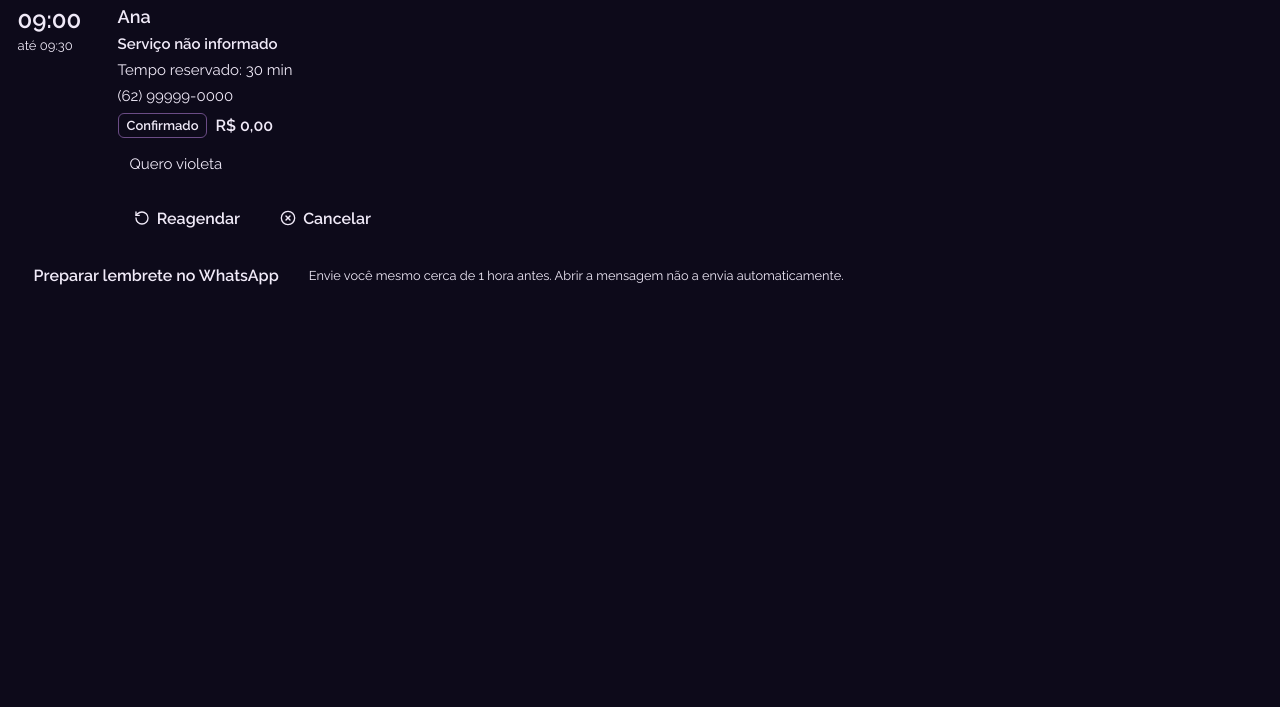
duration change discards old slots and shows the full conflicting appointment on save
Step 1. Click the button "Reagendar" → (187, 218), box [118,196,256,240]
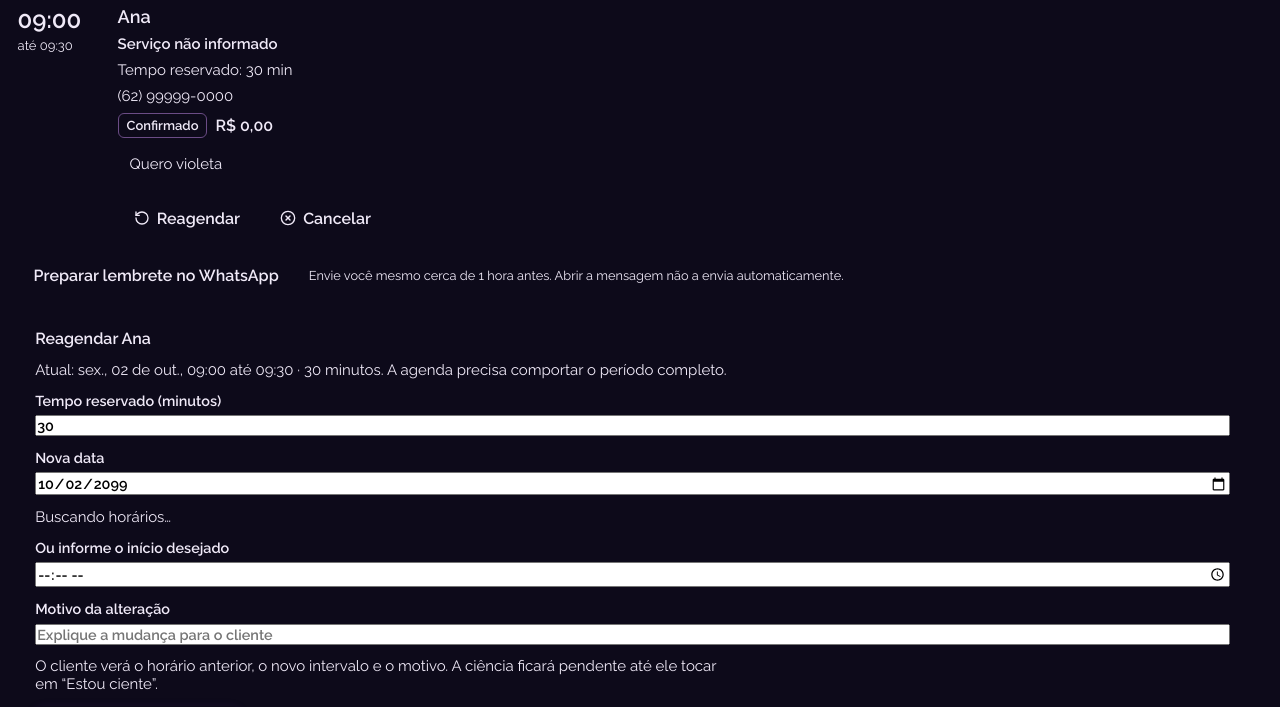
Step 2. Replace the text in the number field labelled "Tempo reservado (minutos)" with "180" → (632, 426), box [35,415,1230,436]
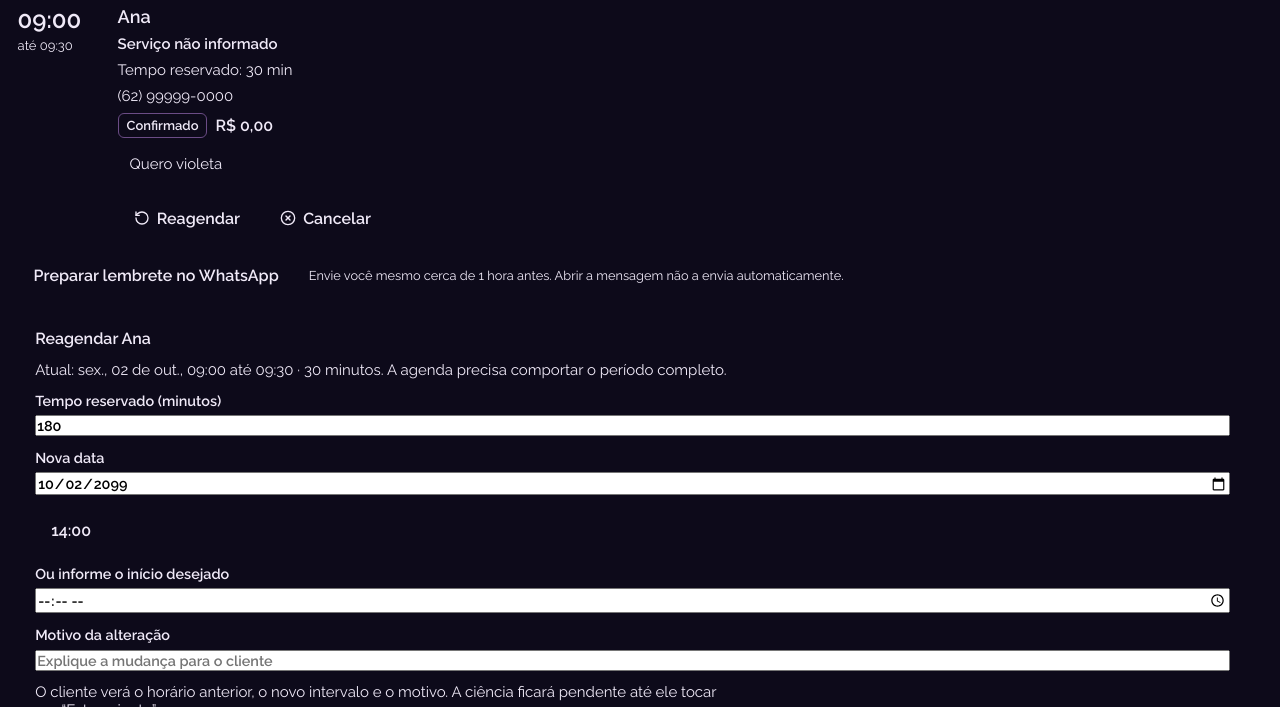
Step 3. Click the button "14:00" → (71, 530), box [35,508,107,552]
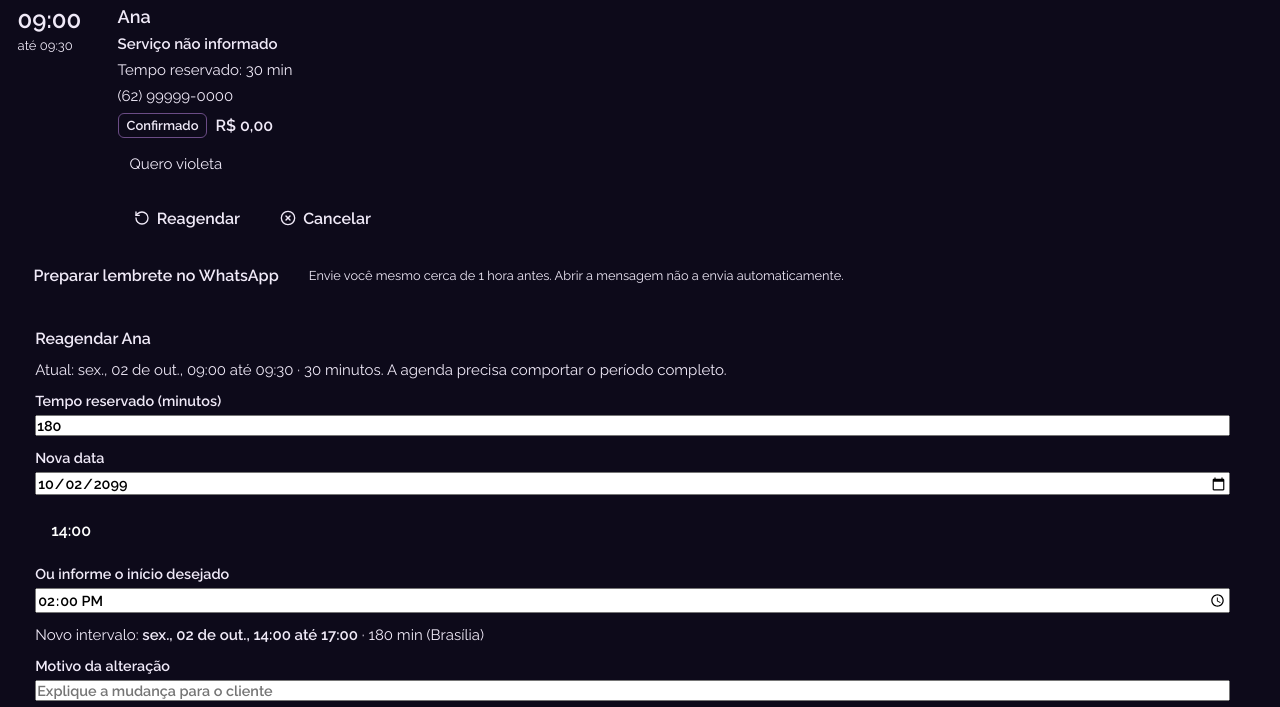
Step 4. Type "Sessão precisa de mais tempo" into the field labelled "Motivo da alteração" → (632, 691), box [35,680,1230,701]
(page scrolled)
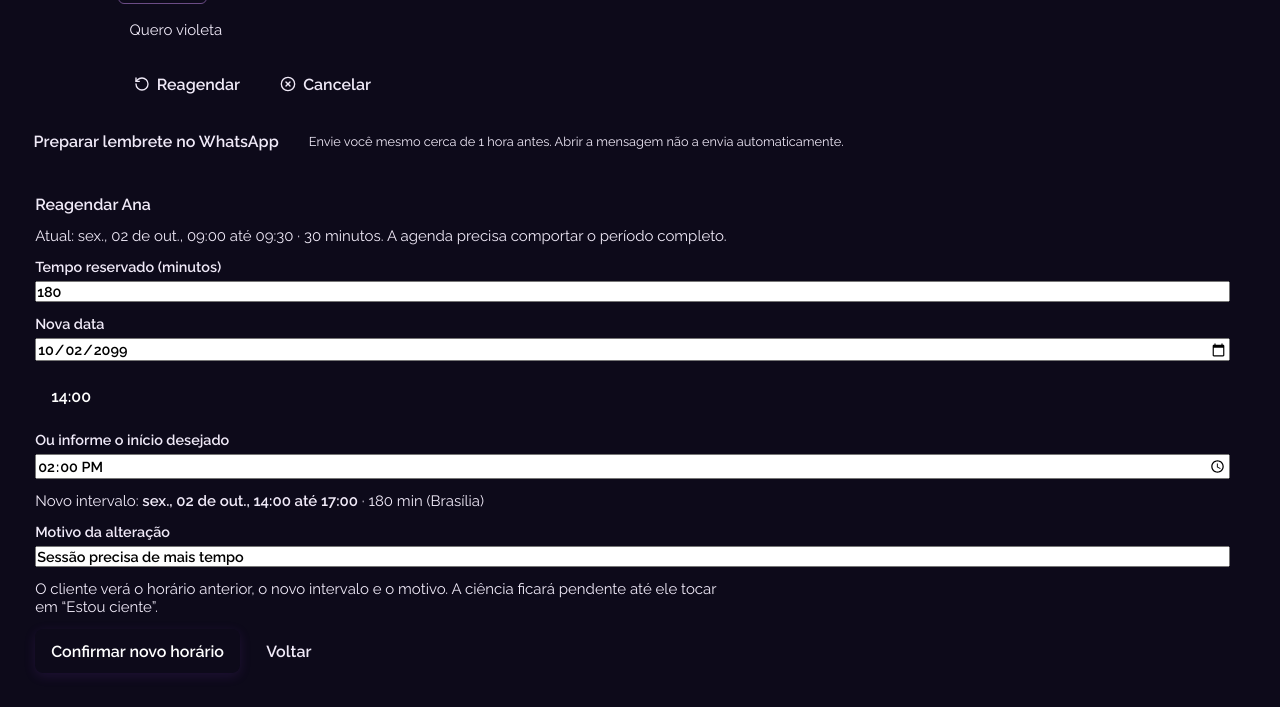
Step 5. Click the button "Confirmar novo horário" → (138, 651), box [35,629,240,673]
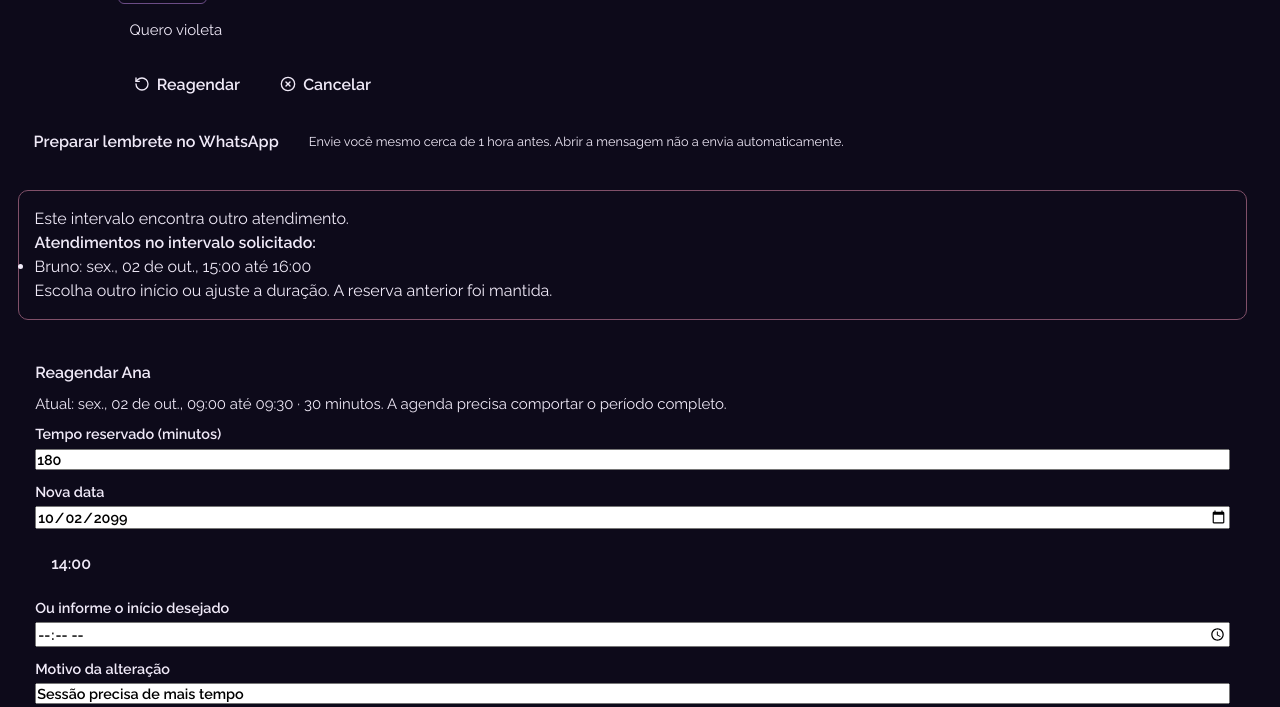
expect the list item "Bruno: sex., 02 de out., 15:00 até 16:00" is shown: met, box [35,257,311,276]
